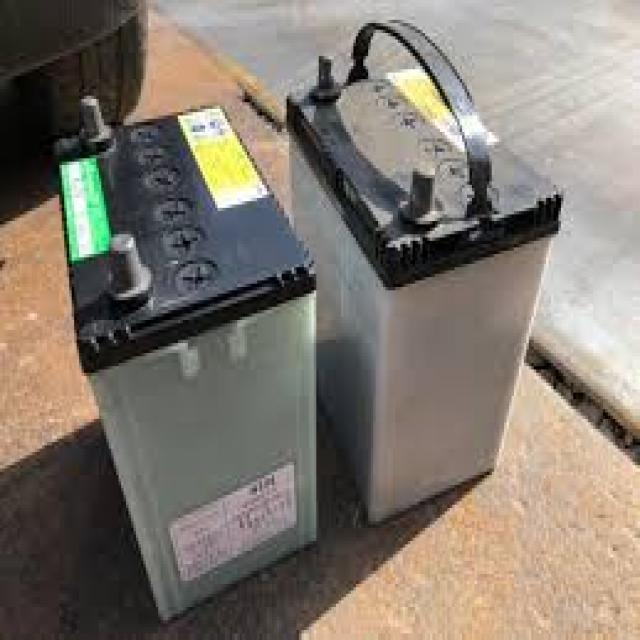battery: (48, 94, 316, 626), (288, 19, 560, 522)
